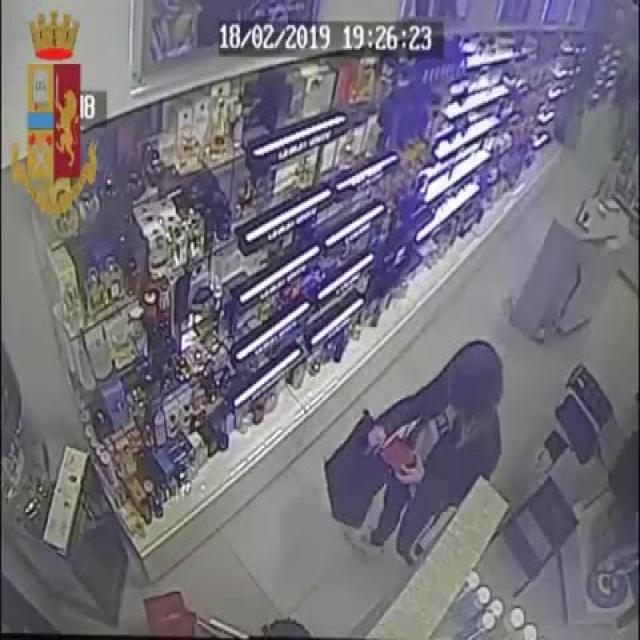persone: (327, 339, 519, 569)
